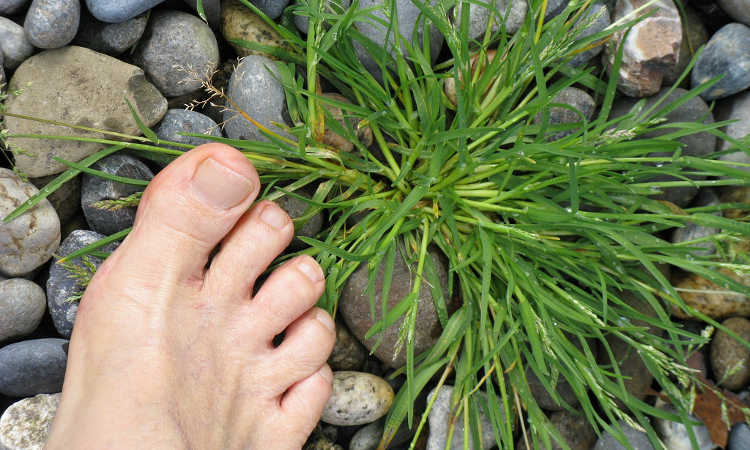crabgrass: (242, 22, 726, 394)
